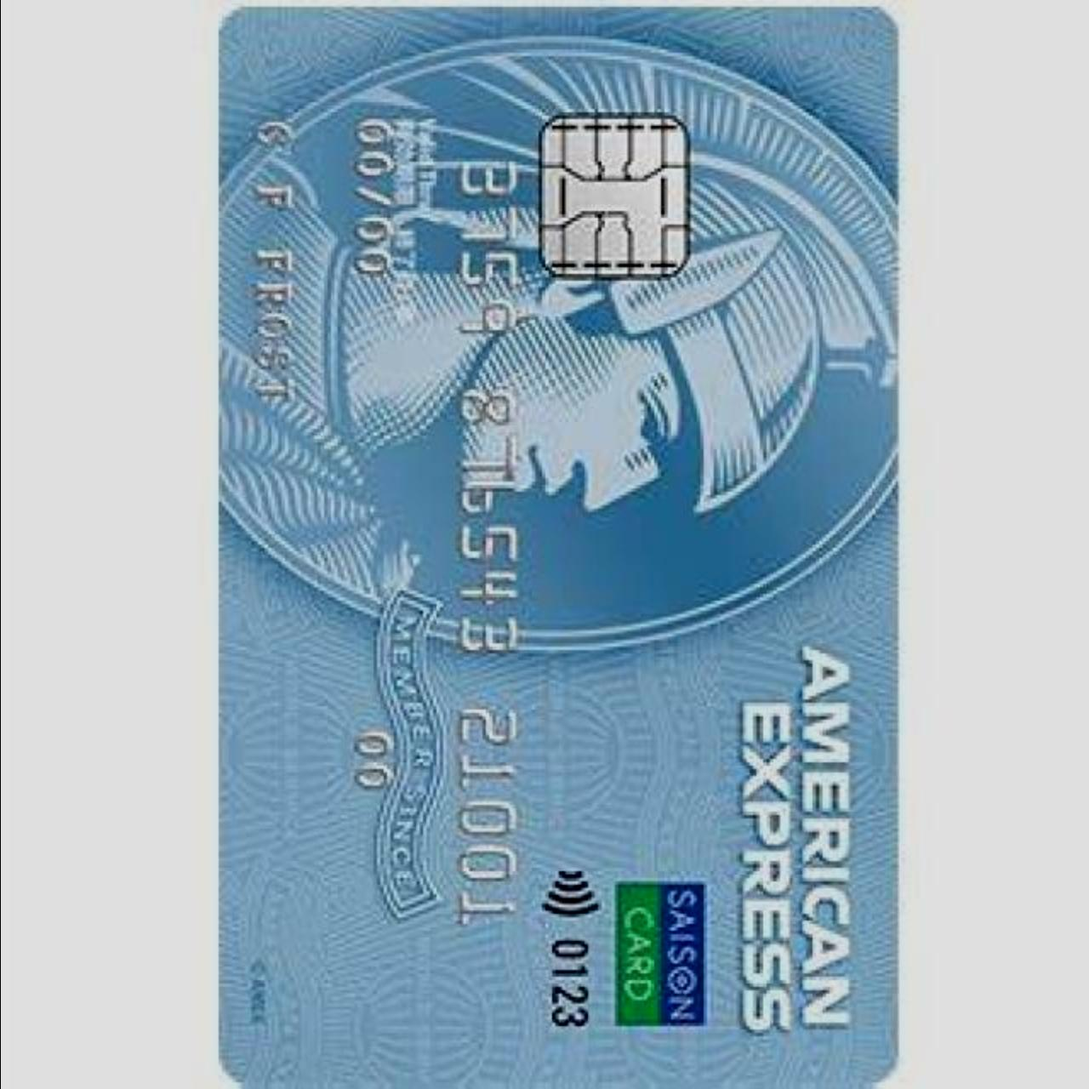credit_card: (201, 3, 915, 1089)
